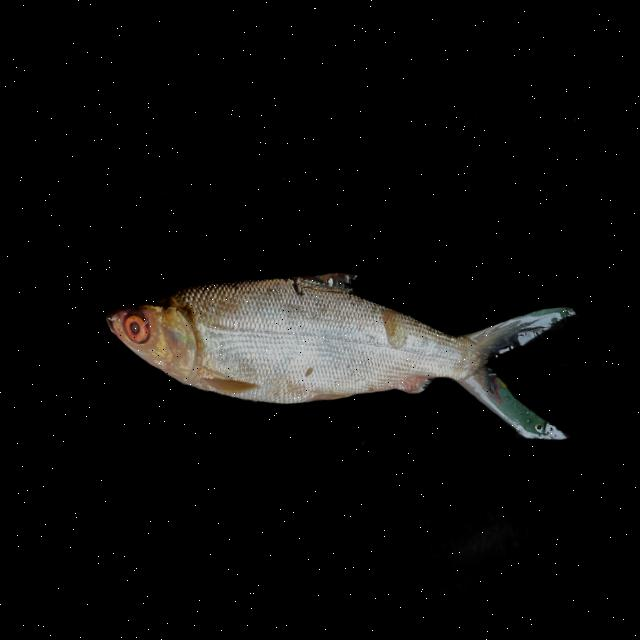540 g: (97, 250, 578, 440)
